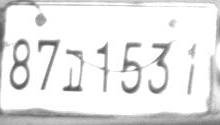1: (92, 41, 119, 92), (178, 43, 203, 94)
3: (147, 42, 169, 94)
5: (120, 41, 142, 94)
7: (36, 39, 61, 90)
8: (9, 38, 31, 90)
고: (62, 49, 83, 92)
